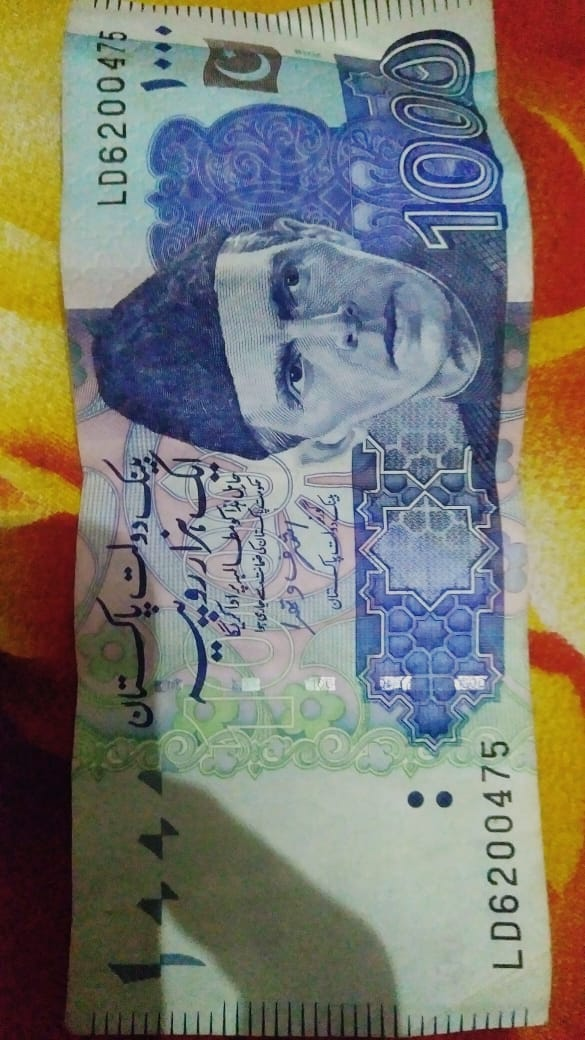1000 rupee: (38, 9, 554, 1033)
